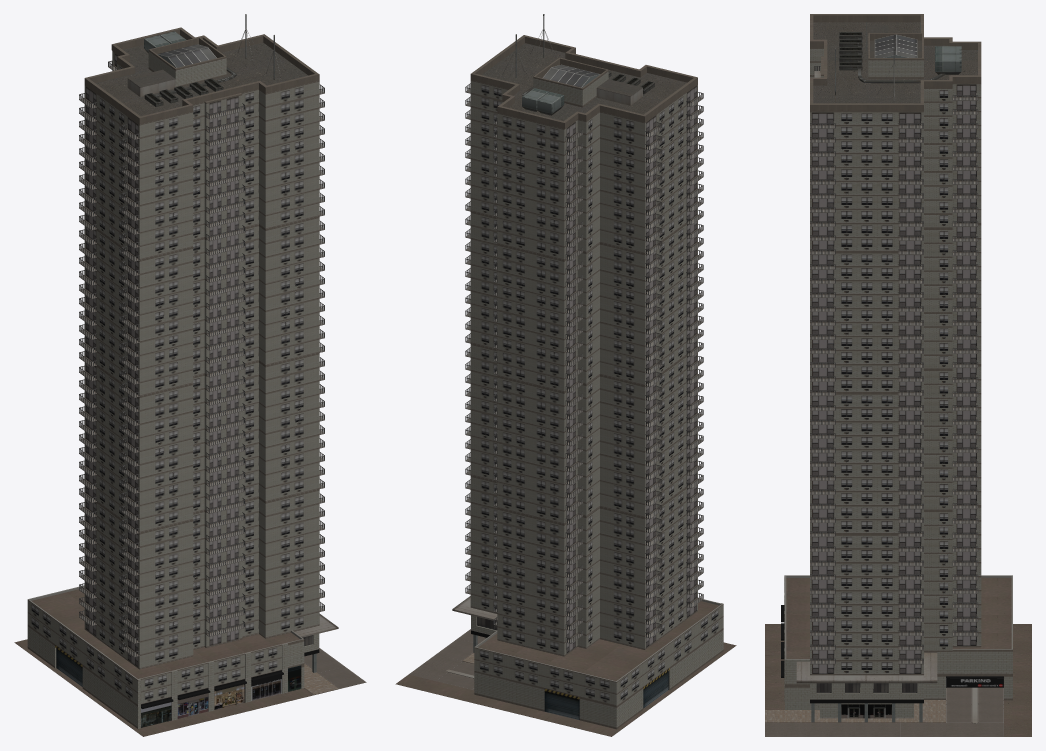
The model's file is ny_hirise_apartment_aitortilla01_nobrand.glb.
3 views of the same model, side by side, from view 1: azimuth 30°, elevation 25°; view 2: azimuth 150°, elevation 25°; view 3: azimuth 270°, elevation 25° (orthographic). The views are drawn at different scales.
Parts seen in each view (by area): view 1: hirise1; view 2: hirise1; view 3: hirise1.
Part boxes in pixels (box(x1,y1,x2,y2)): hirise1: box(14, 14, 366, 736); hirise1: box(395, 14, 736, 736); hirise1: box(765, 14, 1031, 736).
Bounding box in the file's own units: 5400 × 14711 × 5400.
1 material, 1 textured.
